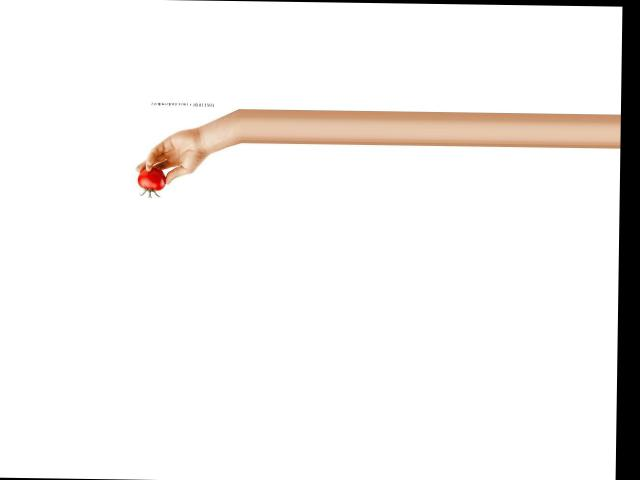tomato: (137, 165, 166, 190)
